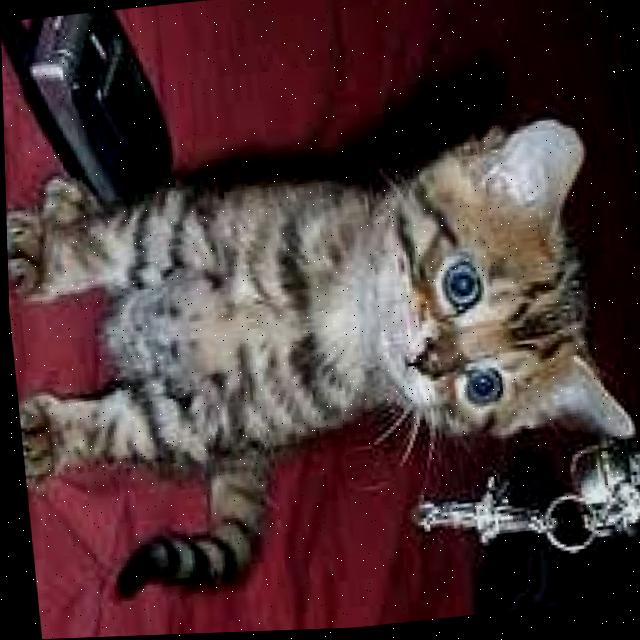Bengal: (2, 81, 640, 617)
